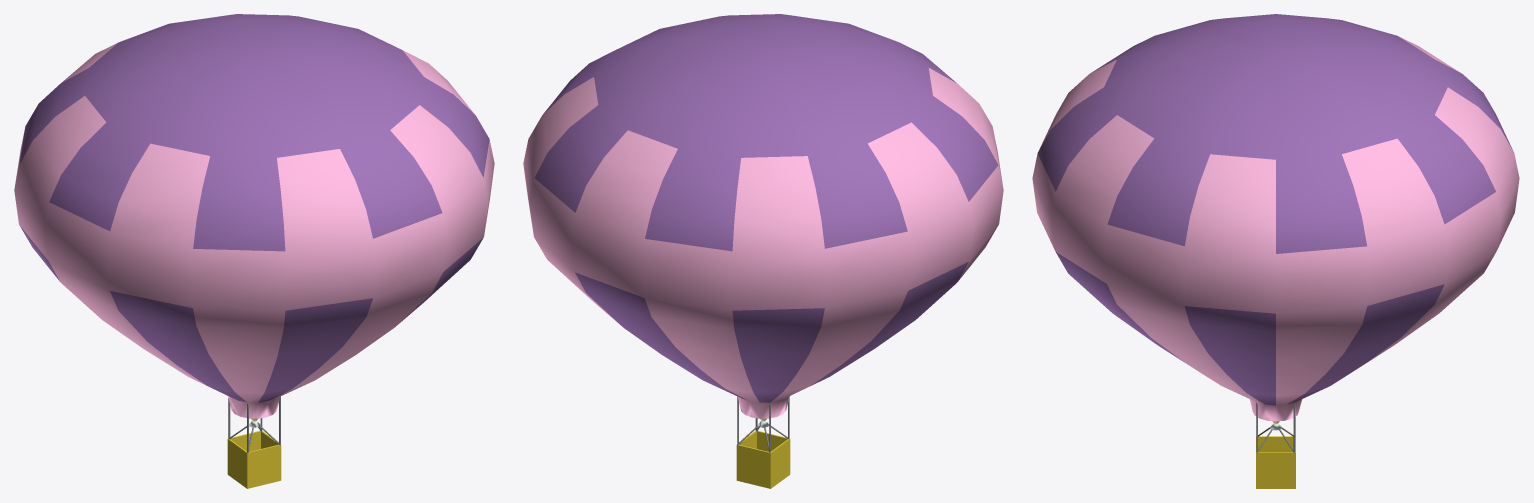
Rendered from balloon_balloon4.glb.
The picture shows the model from 3 angles, left to right: view 1: azimuth 30°, elevation 25°; view 2: azimuth 150°, elevation 25°; view 3: azimuth 270°, elevation 25°; orthographic projection.
Parts seen in each view (by area): view 1: airframe; view 2: airframe; view 3: airframe.
Part boxes in pixels (x1,y1,x2,y2): airframe: [14, 14, 494, 488]; airframe: [523, 14, 1003, 488]; airframe: [1032, 14, 1519, 488].
Bounding box in the file's own units: 56.44 × 55.13 × 56.44.
